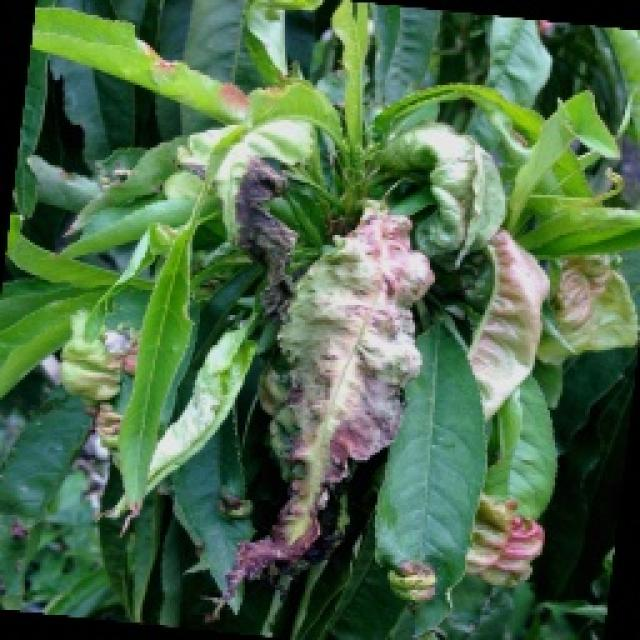peach_leaf_curl: (220, 51, 487, 579)
